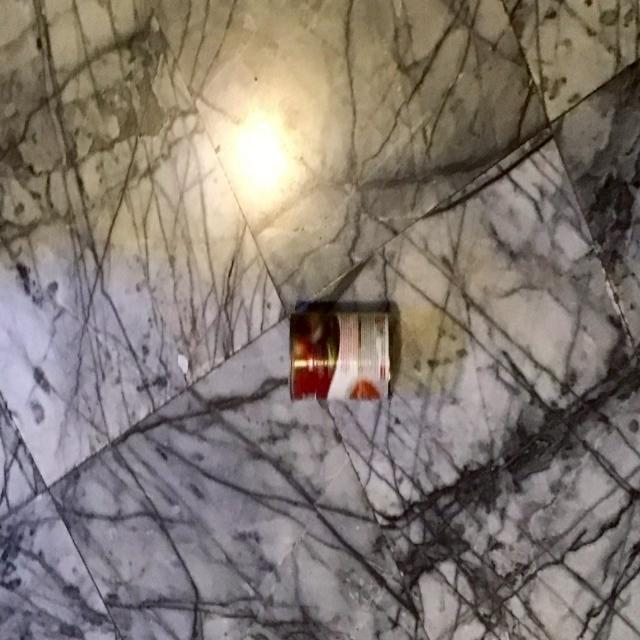can: (289, 306, 395, 410)
